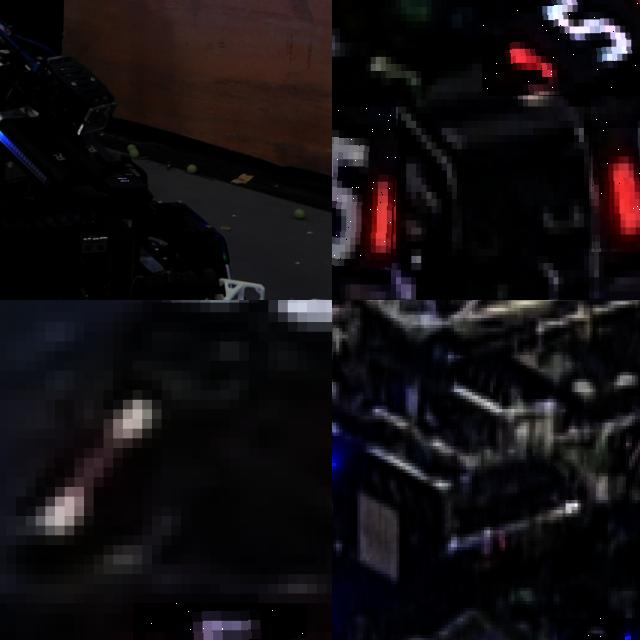B2: (556, 617, 635, 640)
R5: (482, 0, 640, 96), (332, 106, 398, 270), (591, 95, 640, 252), (132, 603, 307, 640)
